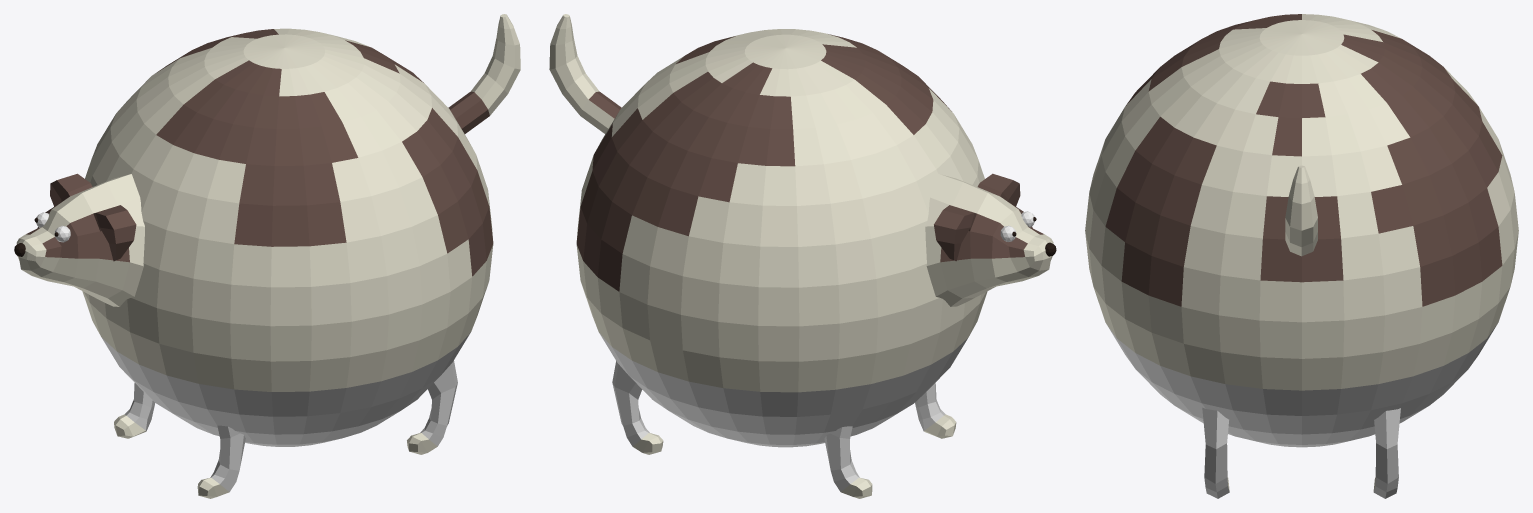
File: dog3.fbx
The picture shows the model from 3 angles, left to right: view 1: azimuth 30°, elevation 25°; view 2: azimuth 150°, elevation 25°; view 3: azimuth 270°, elevation 25°; orthographic projection. The views are drawn at different scales.
Parts seen in each view (by area): view 1: body, head, tail, frontLegs, backLegs; view 2: body, head, tail, frontLegs, backLegs; view 3: body, backLegs, tail.
Part boxes in pixels (left/top/right/bottom): body: left=82, top=28, right=493, bottom=446; head: left=16, top=173, right=144, bottom=306; tail: left=448, top=14, right=520, bottom=133; frontLegs: left=114, top=383, right=245, bottom=498; backLegs: left=407, top=360, right=457, bottom=454; body: left=576, top=29, right=987, bottom=447; head: left=925, top=173, right=1053, bottom=306; tail: left=549, top=14, right=621, bottom=133; frontLegs: left=824, top=383, right=956, bottom=498; backLegs: left=612, top=361, right=663, bottom=454; body: left=1085, top=14, right=1518, bottom=447; backLegs: left=1202, top=407, right=1400, bottom=498; tail: left=1285, top=165, right=1317, bottom=256.
Size of the model in its own units: 176 by 134 by 127.
